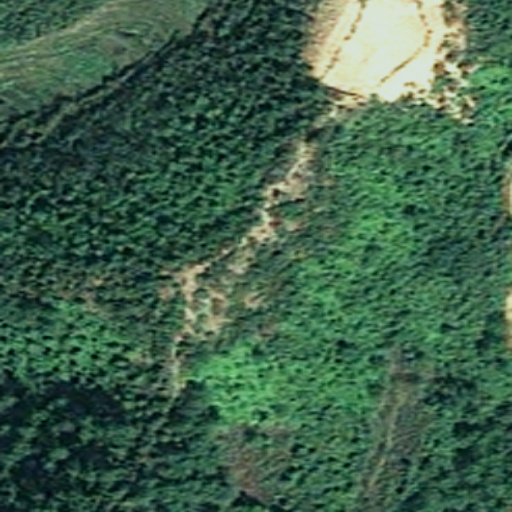landslide: (174, 153, 328, 350), (318, 4, 481, 123)
